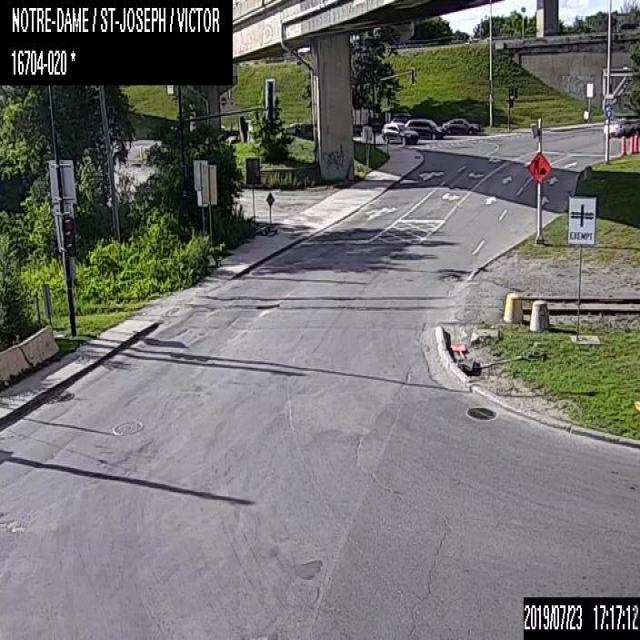construction: (527, 151, 550, 182), (632, 133, 638, 151), (620, 136, 626, 154), (628, 135, 632, 152)
vehicle: (404, 119, 444, 138), (381, 122, 416, 142), (442, 118, 481, 134), (603, 119, 625, 137)
